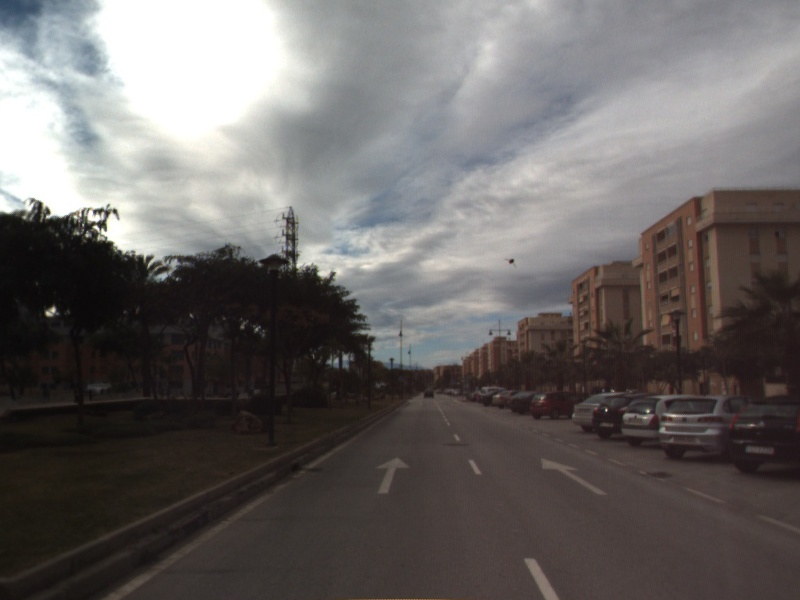STRAIGHT: (539, 456, 611, 497), (374, 455, 413, 495)
